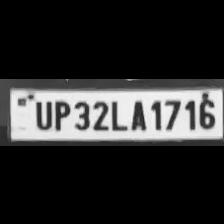1: (147, 96, 163, 130), (180, 96, 196, 130)
2: (90, 97, 110, 130)
3: (70, 97, 90, 129)
6: (196, 95, 216, 129)
7: (160, 96, 180, 130)
A: (127, 96, 148, 130)
L: (108, 96, 126, 130)
P: (50, 97, 70, 130)
U: (30, 97, 52, 129)
